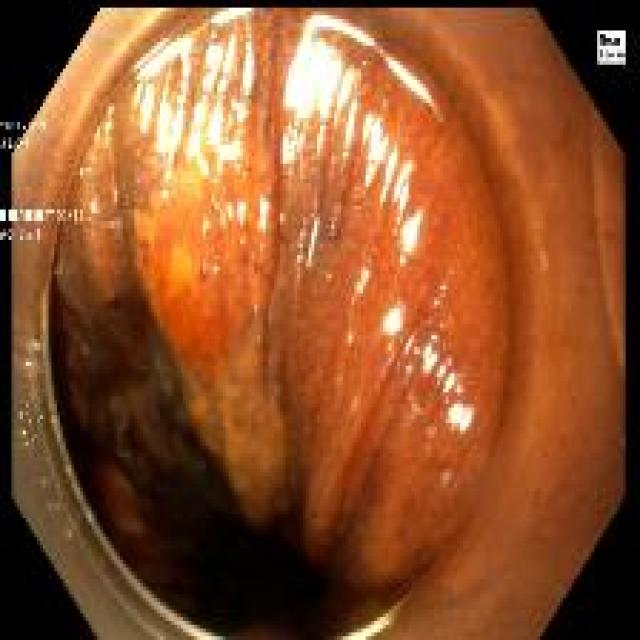color misalignment: (597, 29, 627, 65), (2, 212, 84, 225), (0, 120, 46, 134), (1, 140, 29, 151), (17, 230, 41, 242), (1, 230, 15, 241)
contrast: (144, 442, 365, 636)
specularity: (283, 31, 344, 166), (187, 47, 222, 178), (157, 82, 187, 181), (208, 106, 245, 173), (138, 38, 194, 80), (387, 60, 434, 108), (362, 114, 388, 188), (309, 16, 374, 45), (334, 66, 359, 129), (132, 38, 170, 73), (382, 148, 399, 203), (394, 164, 413, 212), (402, 212, 422, 256), (344, 103, 358, 158), (344, 624, 390, 640), (213, 8, 257, 24), (449, 407, 473, 436), (142, 86, 155, 133), (244, 29, 253, 95), (223, 34, 237, 74), (309, 218, 319, 268), (423, 344, 438, 374), (384, 310, 402, 334), (231, 100, 246, 124), (358, 270, 370, 296), (259, 199, 269, 230), (444, 374, 456, 396), (133, 83, 142, 108), (405, 335, 413, 358), (238, 205, 245, 226), (218, 79, 228, 93), (226, 115, 232, 134), (202, 222, 211, 234), (439, 366, 446, 379), (92, 198, 97, 216), (228, 205, 233, 221), (95, 129, 101, 141), (400, 259, 407, 267), (211, 32, 216, 40), (162, 192, 168, 198), (108, 108, 113, 115), (396, 218, 401, 225), (107, 123, 110, 132), (414, 351, 419, 356)
